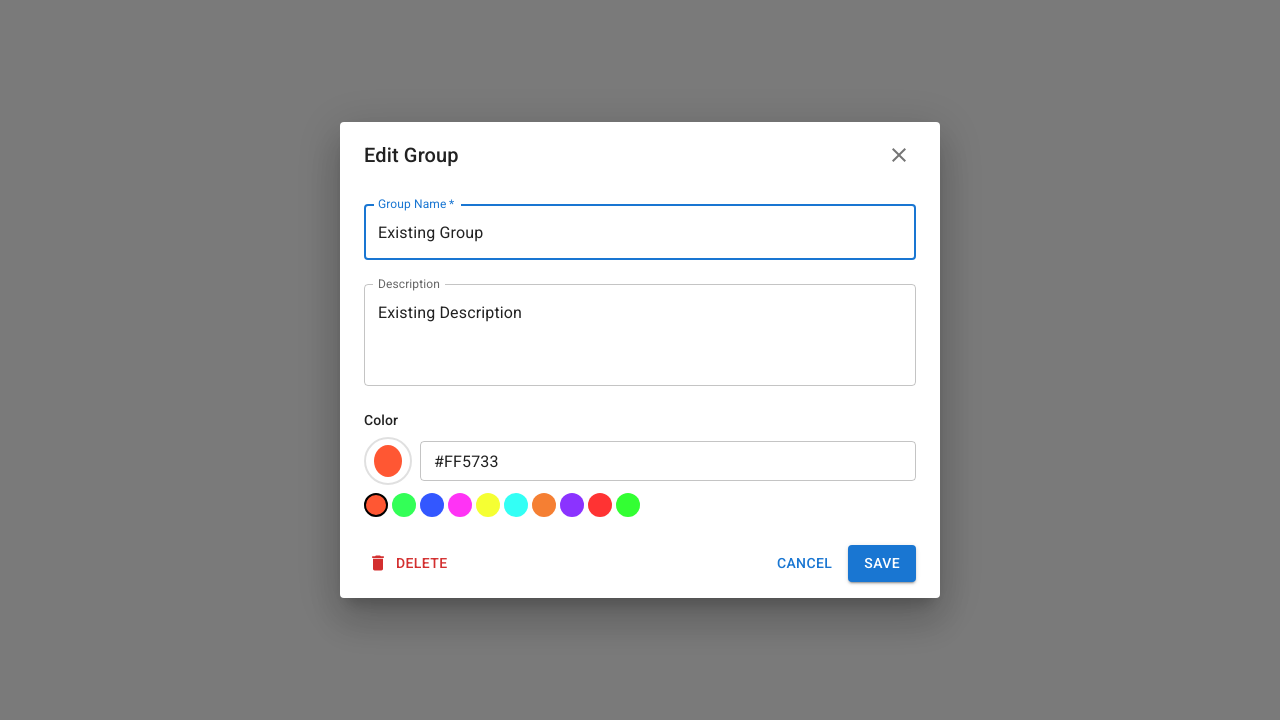
it: GroupManagementDialog Component › Edit Group Mode › should show delete confirmation on delete button click
Click the button "Delete".
click(410, 563)  # box [364,545,456,582]
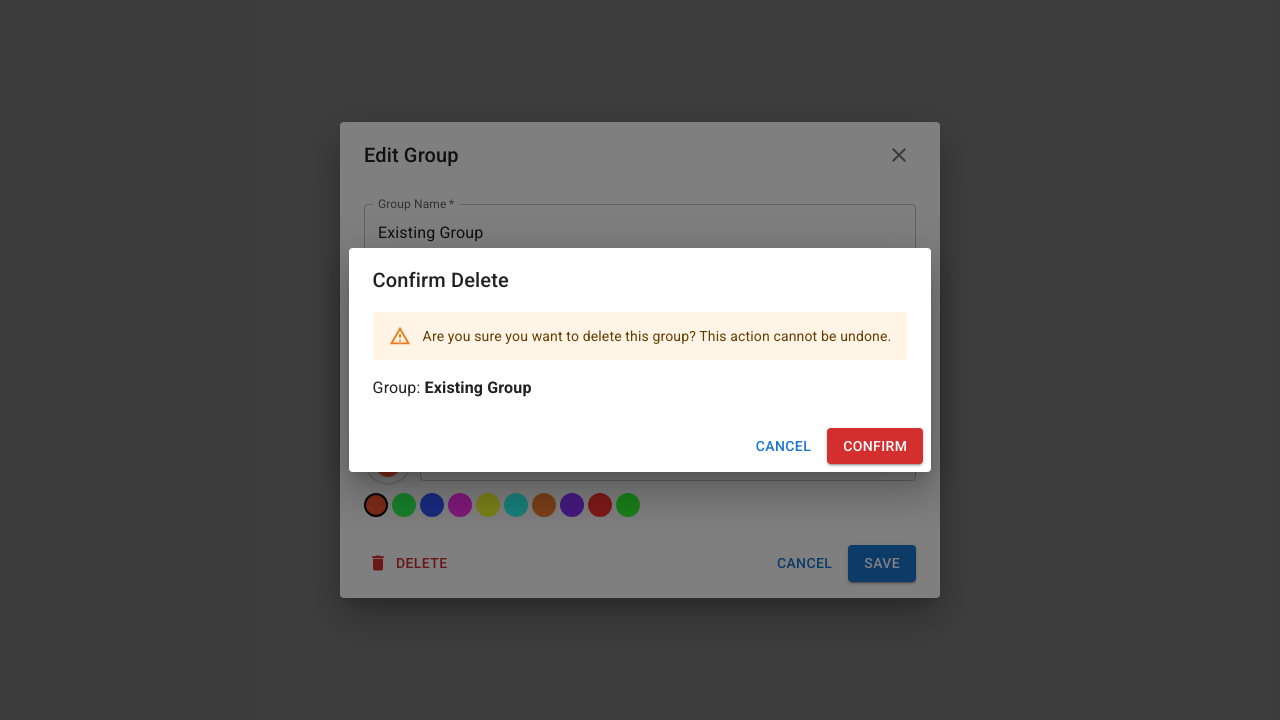
Now the text "Are you sure you want to delete" is shown, box [423,328,891,344]
